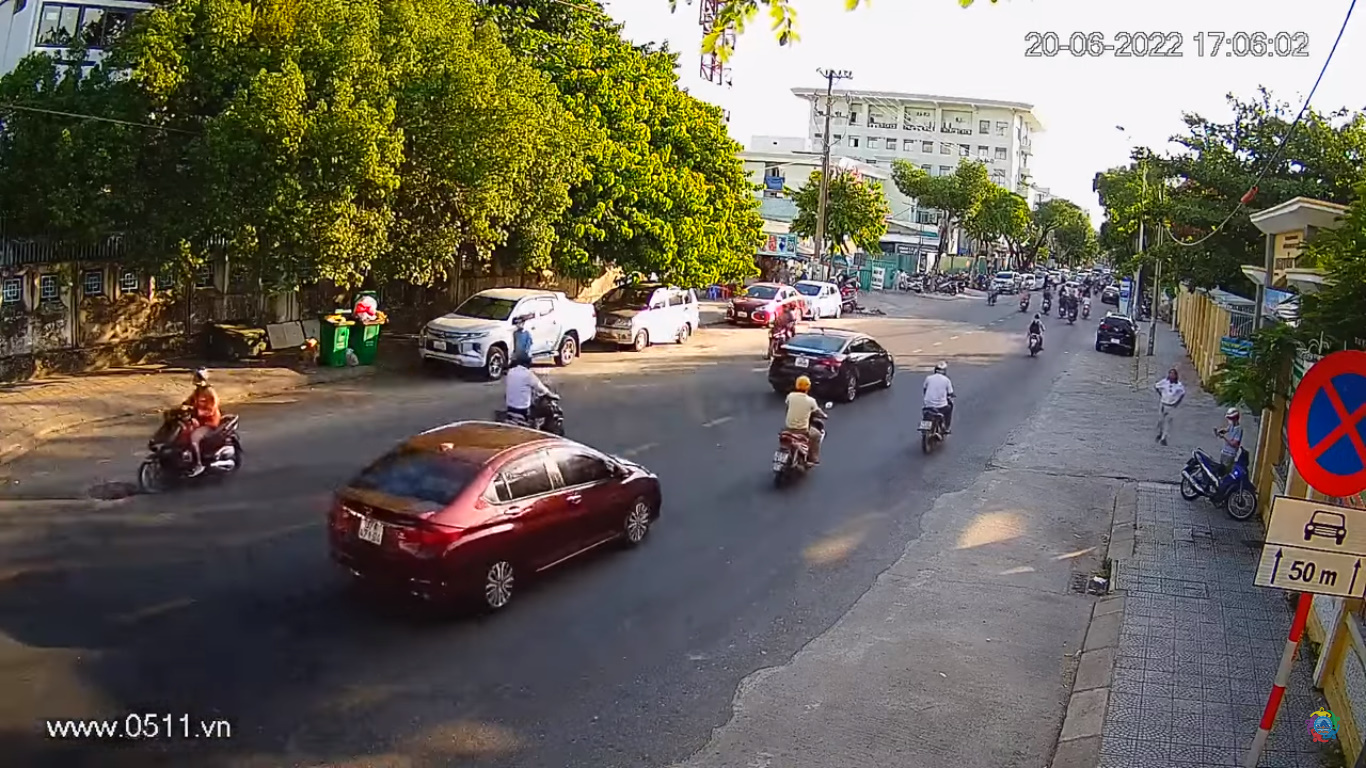car: (320, 412, 666, 623), (770, 317, 899, 409)
